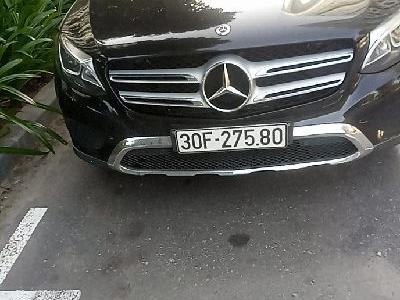number: (174, 123, 285, 153)
